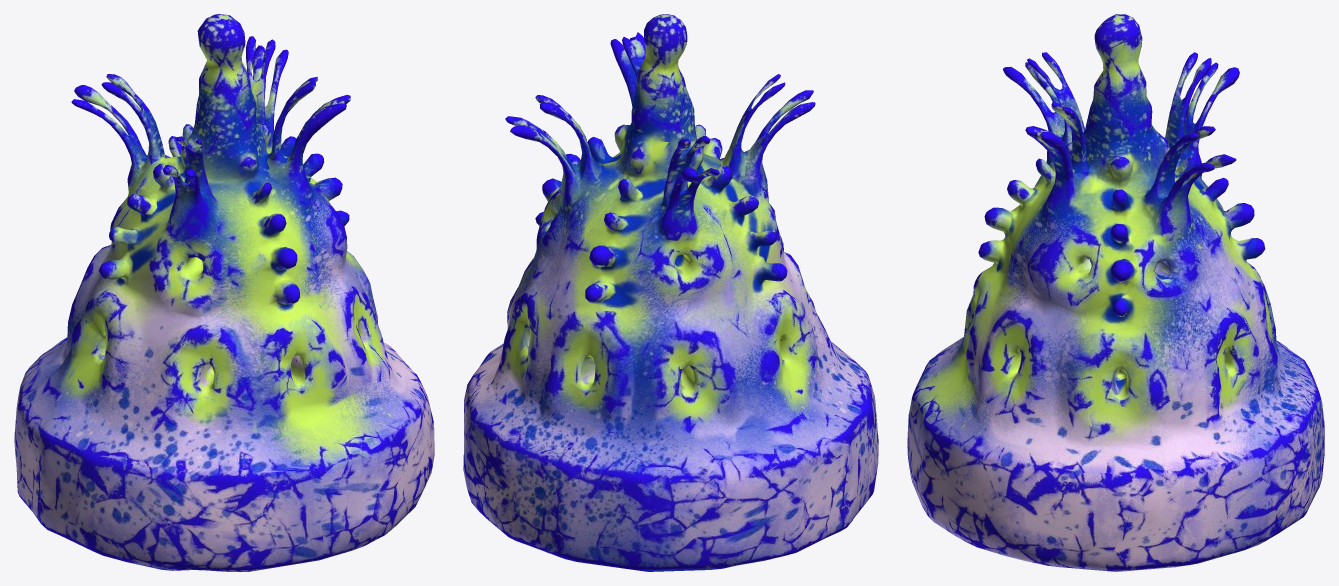
The model's file is shr-house.glb.
3 views of the same model, side by side, from view 1: azimuth 30°, elevation 25°; view 2: azimuth 150°, elevation 25°; view 3: azimuth 270°, elevation 25° (orthographic).
Visible parts, largest first — view 1: geometry_0; view 2: geometry_0; view 3: geometry_0.
Boxes of the visible parts, x1,y1,x2,y2 form: geometry_0: [14, 14, 434, 571]; geometry_0: [463, 14, 878, 571]; geometry_0: [907, 14, 1324, 571].
Size of the model in its own units: 0.7318 by 1 by 0.7304.
1 material, 1 textured.
